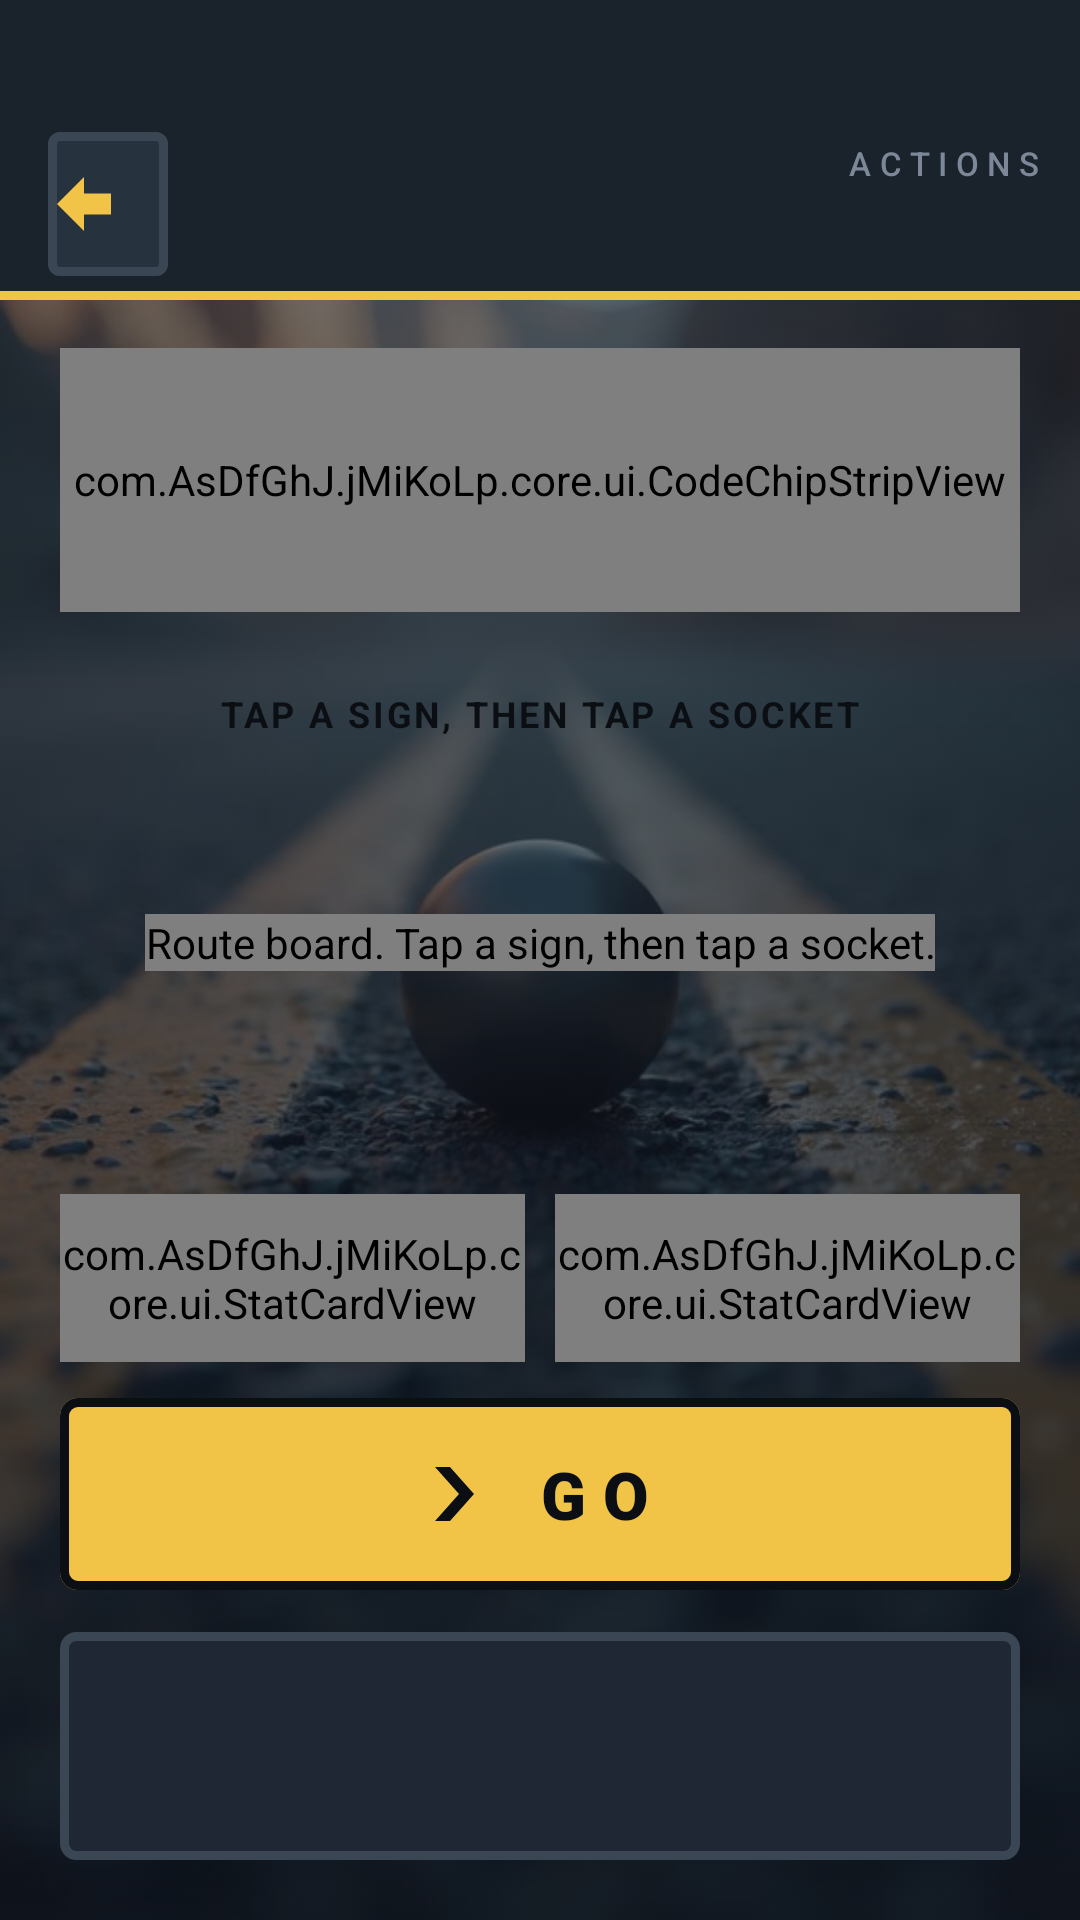

Where icons sit on this 1080px x 1920px app screen, as Rect(x1, y1, x2, y2):
Go back: Rect(48, 132, 168, 276)
